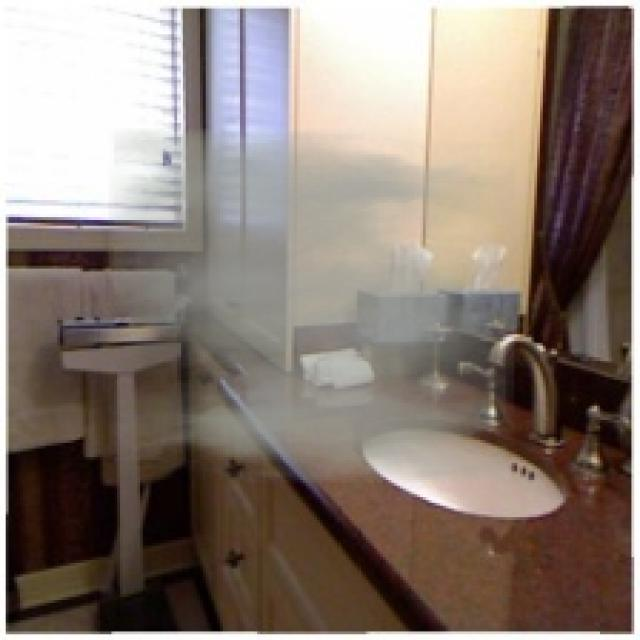smoke: (109, 128, 514, 483)
